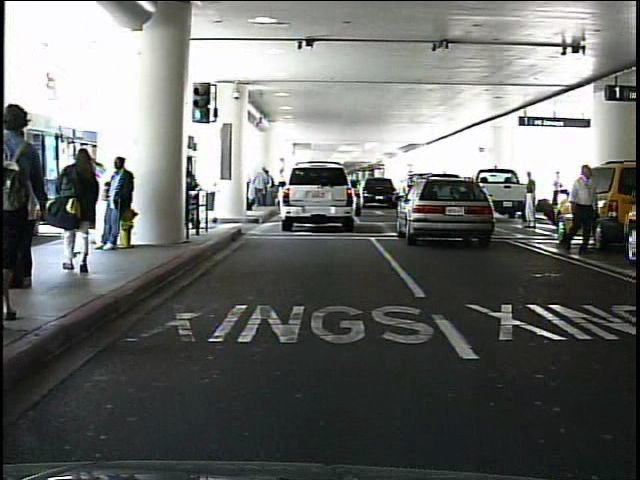person: (54, 139, 104, 274), (99, 152, 137, 253), (566, 159, 600, 257), (521, 170, 540, 230), (555, 169, 564, 211)
